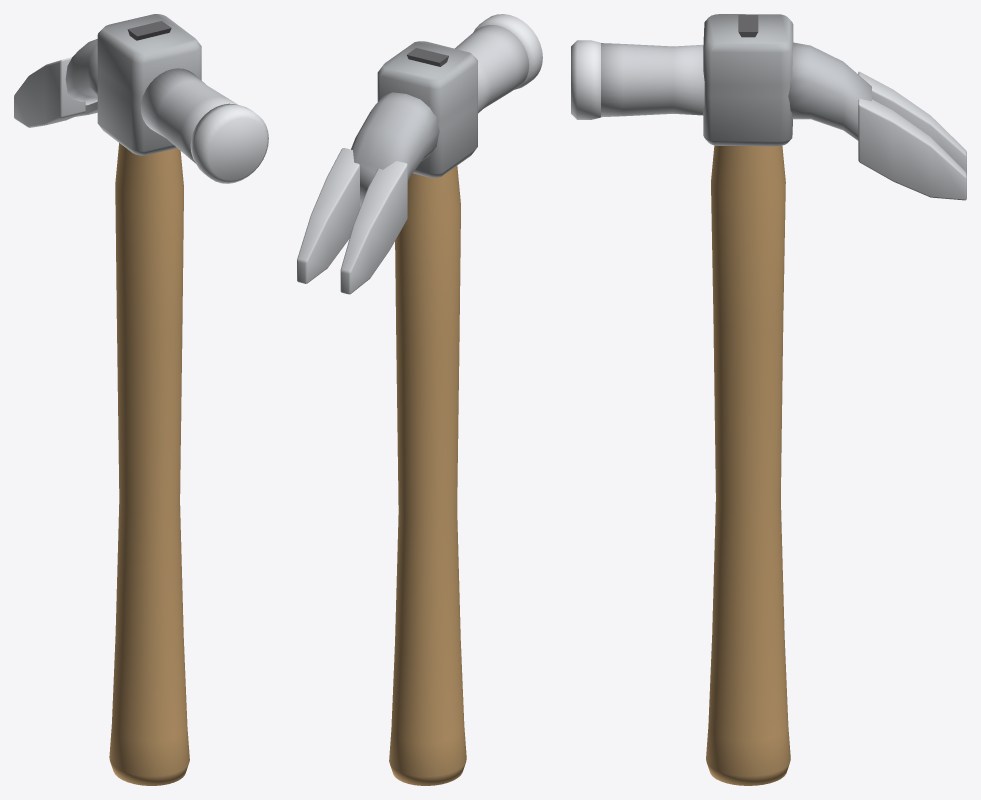
The picture shows the model from 3 angles, left to right: view 1: azimuth 30°, elevation 25°; view 2: azimuth 150°, elevation 25°; view 3: azimuth 270°, elevation 25°; orthographic projection. The views are drawn at different scales.
Visible parts, largest first — view 1: WoodenHandle, HammerEye, StrikingFace, StrikingNeck, ClawProng_1, ClawBase, TopWedge; view 2: WoodenHandle, HammerEye, ClawBase, ClawProng_1, ClawProng_0, StrikingNeck, StrikingFace, TopWedge; view 3: WoodenHandle, HammerEye, StrikingNeck, ClawProng_0, ClawBase, StrikingFace, ClawProng_1.
Boxes of the visible parts, left/top/right/bottom form: WoodenHandle: left=109, top=143, right=189, bottom=785; HammerEye: left=97, top=14, right=201, bottom=155; StrikingFace: left=190, top=103, right=268, bottom=183; StrikingNeck: left=141, top=68, right=237, bottom=163; ClawProng_1: left=14, top=57, right=85, bottom=127; ClawBase: left=65, top=39, right=97, bottom=105; TopWedge: left=127, top=21, right=171, bottom=40; WoodenHandle: left=389, top=166, right=466, bottom=785; HammerEye: left=377, top=41, right=477, bottom=177; ClawBase: left=351, top=92, right=439, bottom=207; ClawProng_1: left=340, top=161, right=407, bottom=294; ClawProng_0: left=297, top=148, right=359, bottom=283; StrikingNeck: left=455, top=25, right=529, bottom=113; StrikingFace: left=473, top=14, right=542, bottom=89; TopWedge: left=407, top=48, right=448, bottom=66; WoodenHandle: left=706, top=145, right=790, bottom=785; HammerEye: left=703, top=14, right=793, bottom=146; StrikingNeck: left=601, top=43, right=704, bottom=117; ClawProng_0: left=858, top=99, right=966, bottom=200; ClawBase: left=788, top=42, right=871, bottom=140; StrikingFace: left=571, top=40, right=600, bottom=119; ClawProng_1: left=858, top=71, right=966, bottom=173.
Size of the model in its own units: 0.032 by 0.33 by 0.1585.
